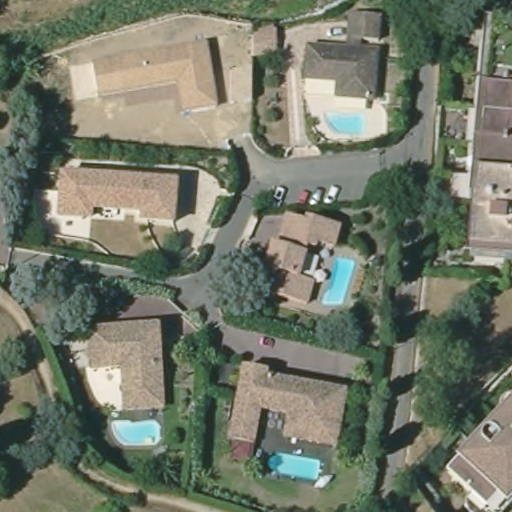pool: (321, 253, 357, 305), (267, 450, 325, 481), (111, 418, 163, 447), (324, 108, 369, 138)
